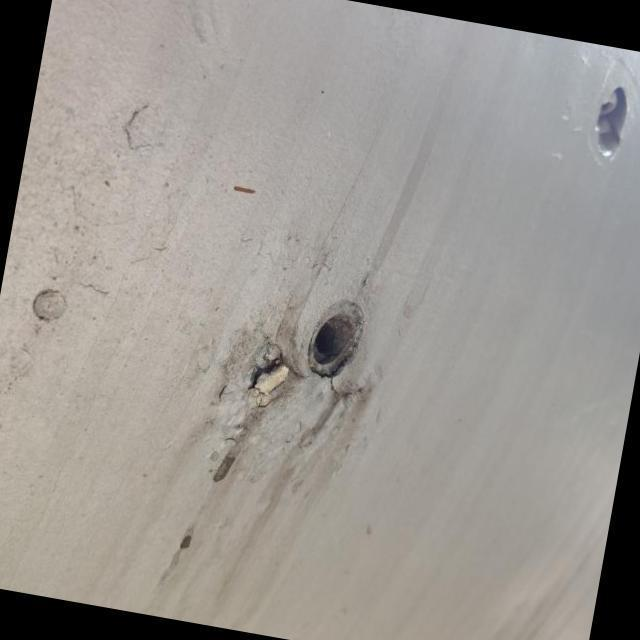Rupture: (226, 334, 315, 423)
